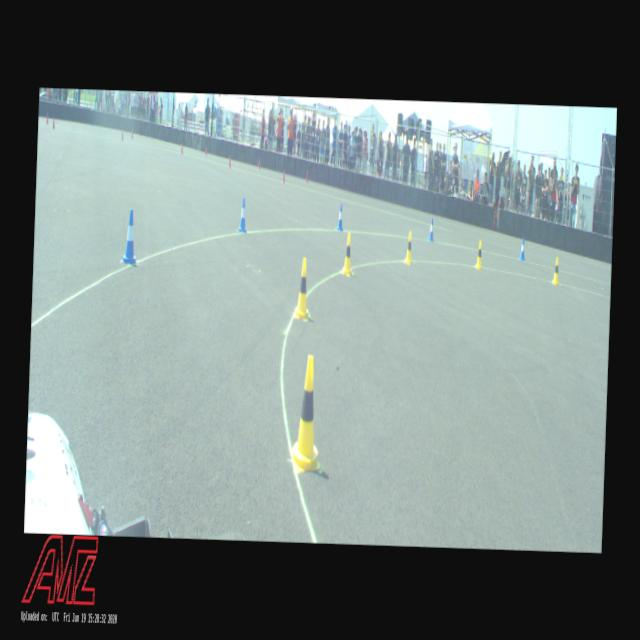blue_cone: (120, 209, 138, 266), (237, 196, 247, 232), (336, 203, 344, 230), (518, 237, 526, 260), (428, 218, 433, 241)
unknown_cone: (282, 169, 285, 182), (228, 154, 231, 167), (204, 144, 207, 156), (51, 116, 54, 128), (257, 159, 260, 170), (46, 113, 49, 124), (180, 142, 182, 154), (306, 170, 308, 182), (131, 128, 133, 139), (121, 130, 123, 140)
yellow_cone: (290, 354, 326, 474), (294, 258, 312, 320), (341, 232, 355, 276), (403, 230, 412, 264), (474, 240, 484, 269), (551, 257, 560, 284)
